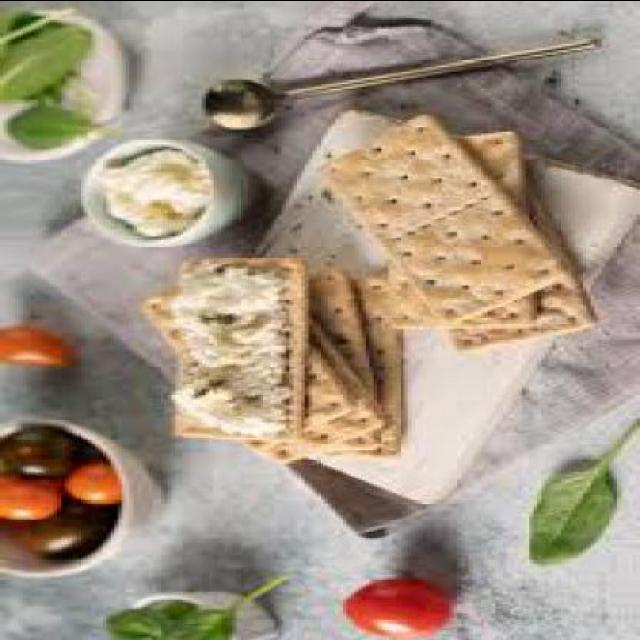Cracker packaged: (332, 107, 538, 321), (164, 248, 308, 441)
